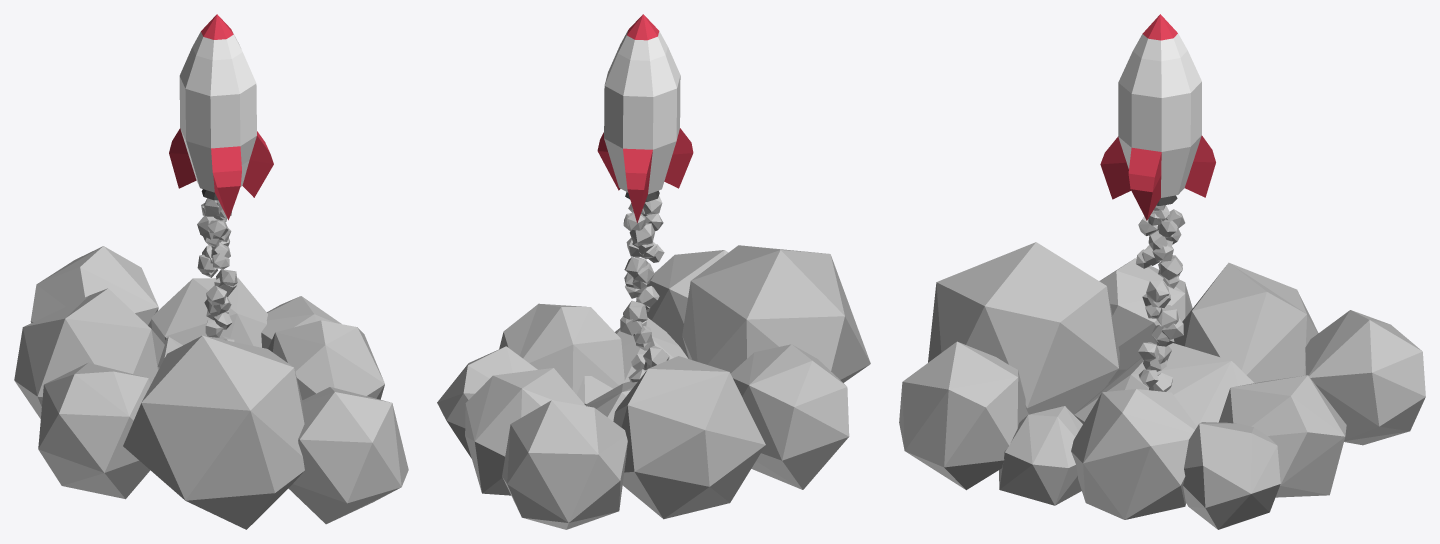
File: Rocket_Ship.fbx
3 renders of one model, left to right at view 1: azimuth 30°, elevation 25°; view 2: azimuth 150°, elevation 25°; view 3: azimuth 270°, elevation 25°, orthographic. The views are drawn at different scales.
Parts seen in each view (by area): view 1: Icosphere.002, Cylinder, Icosphere.001, Icosphere.003, Icosphere.006, Icosphere.007, Icosphere.005, Icosphere.004, Icosphere.009; view 2: Icosphere.002, Icosphere.006, Icosphere.005, Cylinder, Icosphere.003, Icosphere.007, Icosphere.004, Icosphere.001, Icosphere.009, Icosphere.008, Icosphere.010, Icosphere; view 3: Icosphere.002, Cylinder, Icosphere.001, Icosphere.007, Icosphere.005, Icosphere.006, Icosphere.004, Icosphere.009, Icosphere.008, Icosphere.010, Icosphere.003.
Part boxes in pixels (box(x1,y1,x2,y2)): Icosphere.002: box(123, 335, 304, 529); Cylinder: box(169, 14, 273, 220); Icosphere.001: box(288, 387, 408, 524); Icosphere.003: box(38, 362, 150, 499); Icosphere.006: box(14, 288, 164, 419); Icosphere.007: box(268, 320, 384, 400); Icosphere.005: box(30, 246, 158, 329); Icosphere.004: box(151, 277, 267, 347); Icosphere.009: box(261, 296, 341, 348); Icosphere.002: box(682, 245, 870, 382); Icosphere.006: box(613, 356, 765, 519); Icosphere.005: box(502, 400, 627, 529); Cylinder: box(597, 14, 693, 223); Icosphere.003: box(731, 344, 849, 489); Icosphere.007: box(499, 303, 624, 394); Icosphere.004: box(465, 368, 585, 495); Icosphere.001: box(646, 250, 727, 358); Icosphere.009: box(437, 346, 537, 458); Icosphere.008: box(615, 317, 688, 382); Icosphere.010: box(585, 381, 637, 421); Icosphere: box(577, 376, 612, 404); Icosphere.002: box(928, 242, 1119, 415); Cylinder: box(1100, 14, 1215, 220); Icosphere.001: box(899, 341, 1028, 490); Icosphere.007: box(1071, 389, 1196, 519); Icosphere.005: box(1305, 310, 1425, 445); Icosphere.006: box(1173, 262, 1318, 382); Icosphere.004: box(1218, 375, 1346, 497); Icosphere.009: box(1183, 422, 1280, 529); Icosphere.008: box(999, 406, 1082, 505); Icosphere.010: box(1074, 343, 1254, 426); Icosphere.003: box(1099, 258, 1192, 384).
Size of the model in its own units: 1244 by 1477 by 1579.
